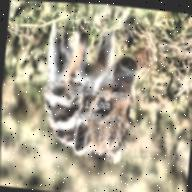boar: (37, 19, 143, 166)
